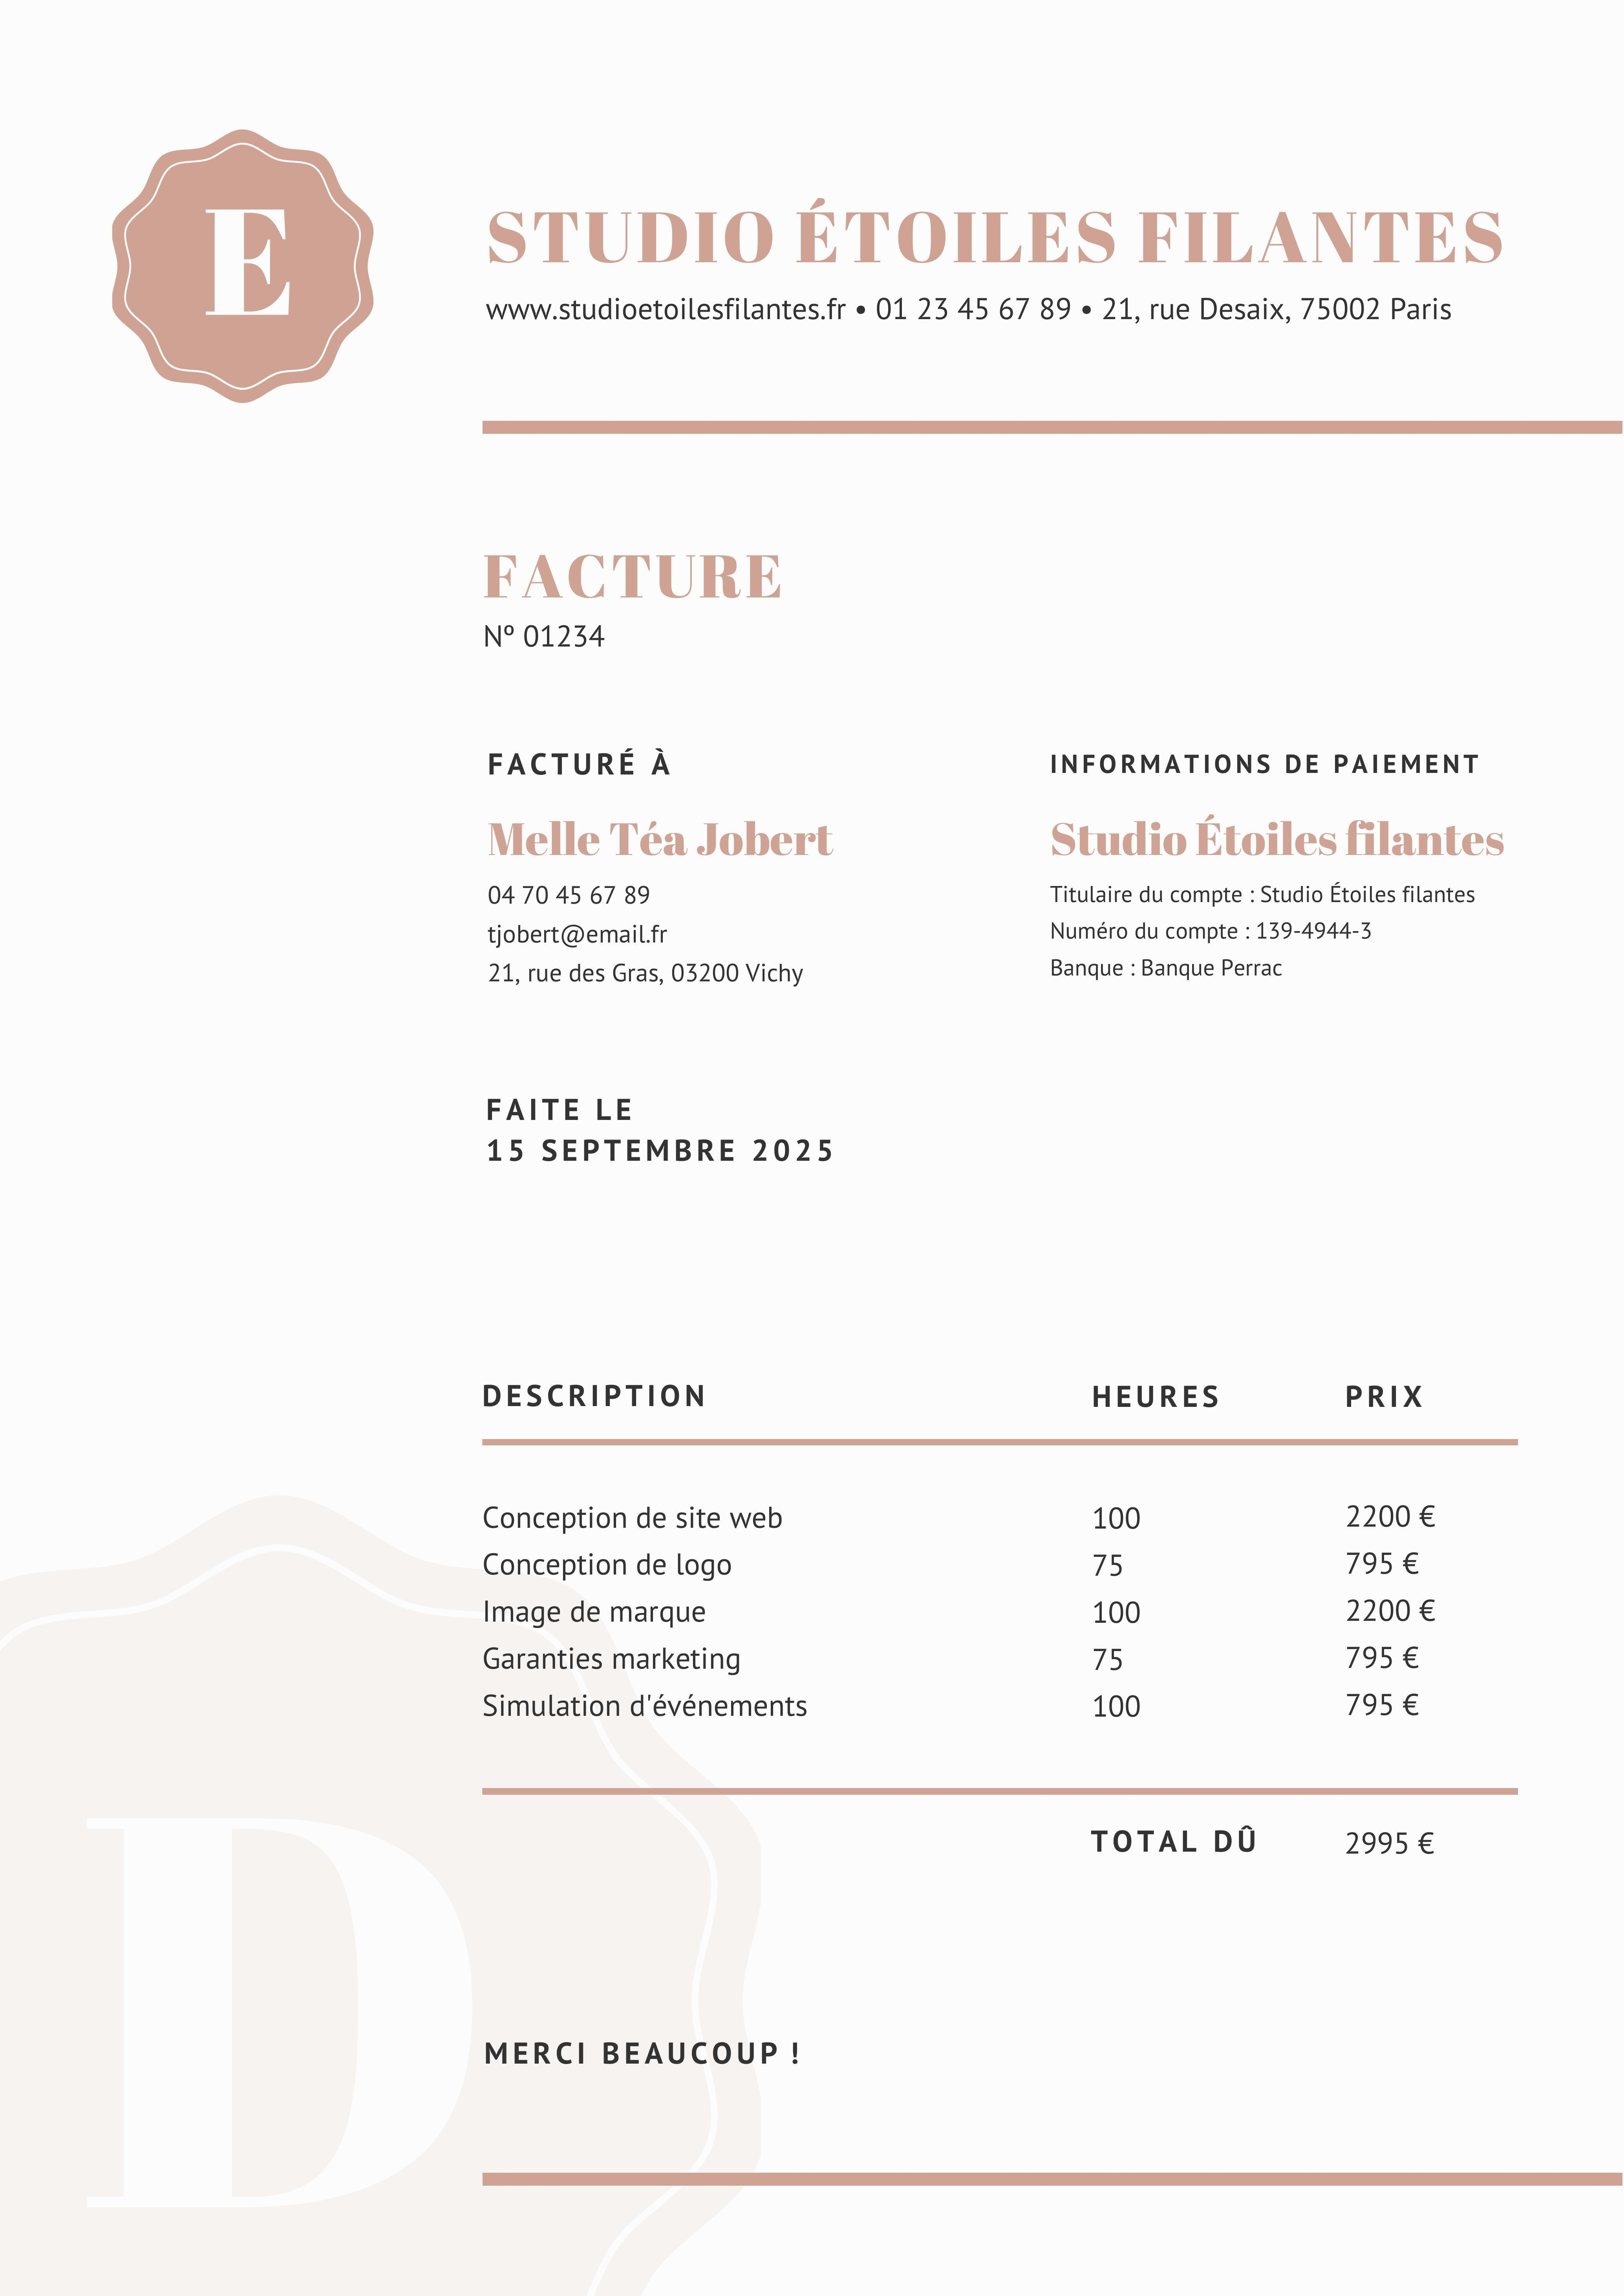ROI: (469, 1368, 1526, 1789), (1037, 748, 1562, 1029), (474, 739, 875, 1019), (466, 191, 1536, 284), (469, 519, 813, 682), (1062, 1817, 1463, 1869)
